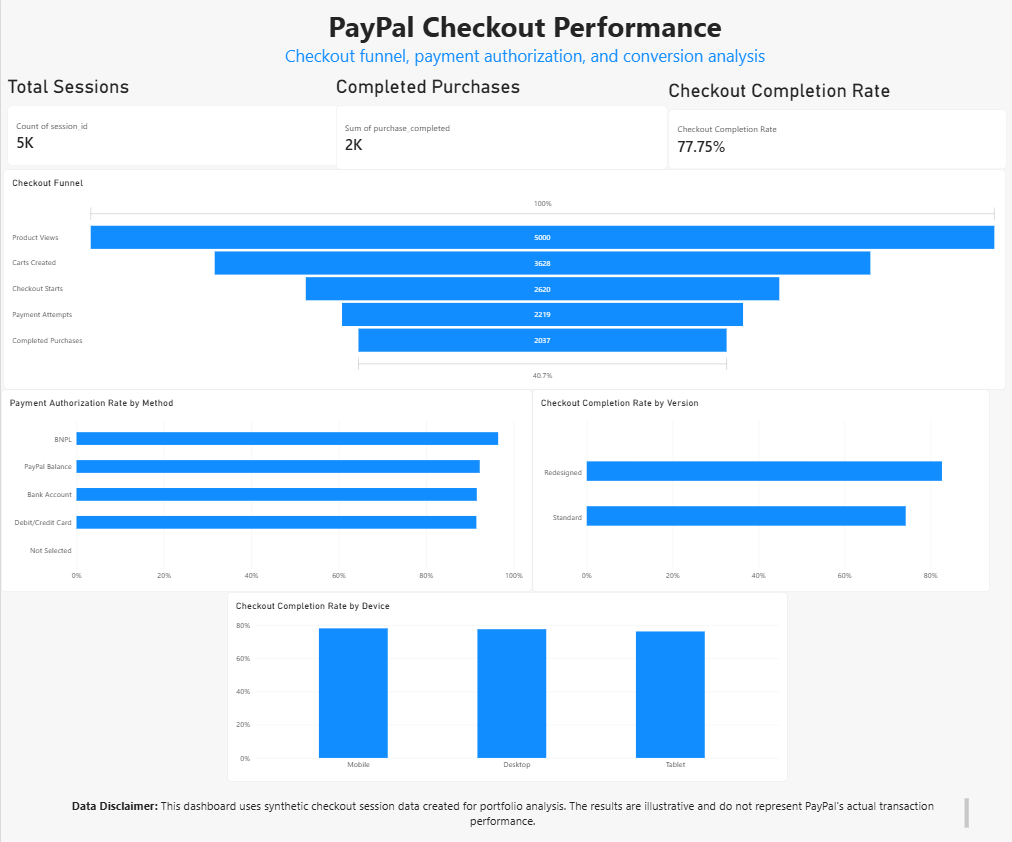

This screenshot's page, from the dashboard's own definition file:
{"tool":"powerbi","page":{"name":"Checkout Performance","canvas":[1927,1892],"ordinal":0},"visuals":[{"type":"cardVisual","title":"Total Sessions","fields":{"Data":["CountNonNull(synthetic_checkout_sessions.session_id)"]},"box":[10.9,150,634,170.8],"z":0},{"type":"cardVisual","title":"Completed Purchases","fields":{"Data":["Sum(synthetic_checkout_sessions.purchase_completed)"]},"box":[639.1,150,631.9,179.1],"z":1000},{"type":"cardVisual","title":"Checkout Completion Rate","fields":{"Data":["synthetic_checkout_sessions.Checkout Completion Rate"]},"box":[1271.7,156.5,644.3,170.8],"z":2000},{"type":"funnel","title":"Checkout Funnel","fields":{"Category":["Checkout Funnel.Stage"],"Y":["Sum(Checkout Funnel.Sessions)"]},"box":[4.8,328.6,1909.5,419],"z":3000},{"type":"clusteredColumnChart","title":"Checkout Completion Rate by Device","fields":{"Category":["synthetic_checkout_sessions.device_type"],"Y":["Checkout Funnel.Device Checkout Completion Rate"]},"box":[431,1133.3,1067.4,360.9],"z":4000},{"type":"clusteredBarChart","title":"Checkout Completion Rate by Version","fields":{"Category":["synthetic_checkout_sessions.checkout_version"],"Y":["Checkout Funnel.Checkout Version Completion Rate"]},"box":[1011.9,747.6,871.4,385.7],"z":5000},{"type":"clusteredBarChart","title":"Payment Authorization Rate by Method","fields":{"Category":["synthetic_checkout_sessions.payment_method"],"Y":["Checkout Funnel.Payment Authorization Rate"]},"box":[0,747.6,1011.9,385.7],"z":6000},{"type":"textbox","box":[10,1331,1011,224],"z":7000},{"type":"textbox","box":[467.4,19.6,1063,130.4],"z":7001},{"type":"textbox","box":[76.2,1526.2,1767.4,56.5],"z":7002}]}

Visuals, with their boxes on the page's 1927x1892 design canvas (x1, y1, x2, y2). These are canvas units, not pixel positions in the 1012x842 screenshot, which may show the page scaled, cropped or inside an application window:
"Total Sessions" cardVisual: x1=11 y1=150 x2=645 y2=321
"Completed Purchases" cardVisual: x1=639 y1=150 x2=1271 y2=329
"Checkout Completion Rate" cardVisual: x1=1272 y1=156 x2=1916 y2=327
"Checkout Funnel" funnel: x1=5 y1=329 x2=1914 y2=748
"Checkout Completion Rate by Device" clusteredColumnChart: x1=431 y1=1133 x2=1498 y2=1494
"Checkout Completion Rate by Version" clusteredBarChart: x1=1012 y1=748 x2=1883 y2=1133
"Payment Authorization Rate by Method" clusteredBarChart: x1=0 y1=748 x2=1012 y2=1133
textbox: x1=10 y1=1331 x2=1021 y2=1555
textbox: x1=467 y1=20 x2=1530 y2=150
textbox: x1=76 y1=1526 x2=1844 y2=1583
